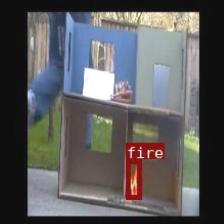fire: (125, 159, 141, 198)
